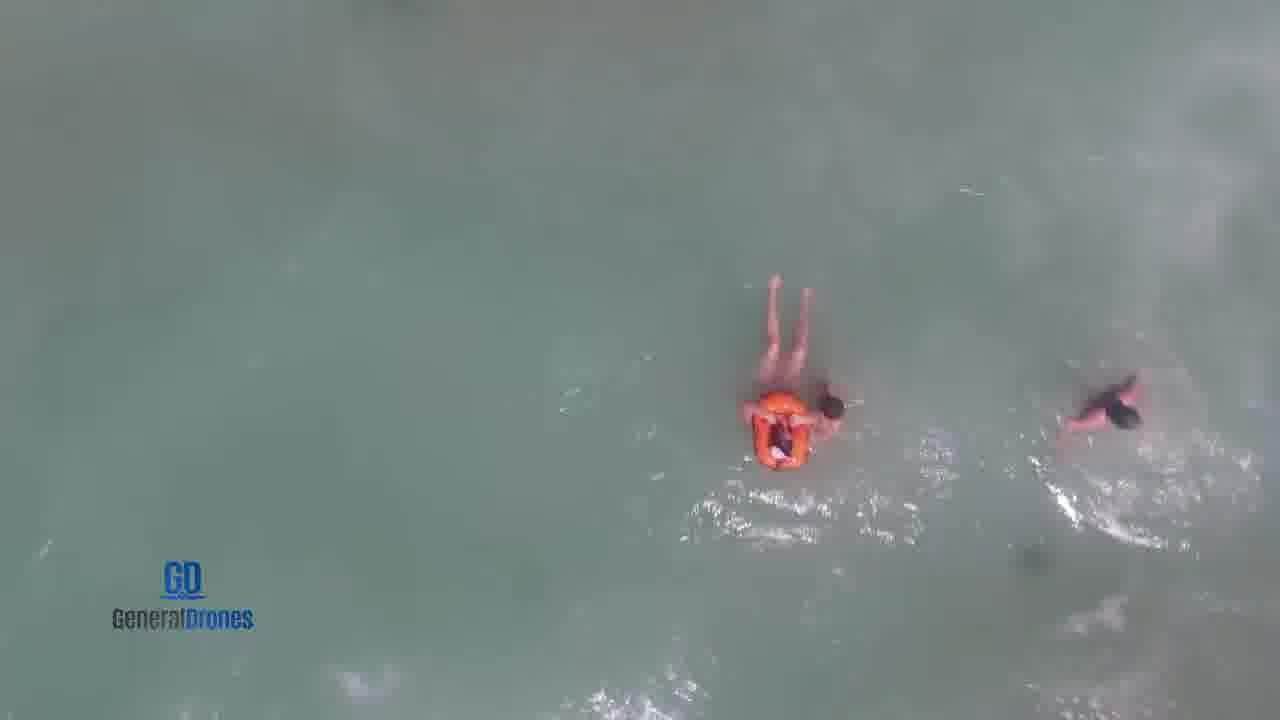swimmer: (747, 274, 822, 460), (1060, 368, 1154, 438), (806, 378, 861, 438)
